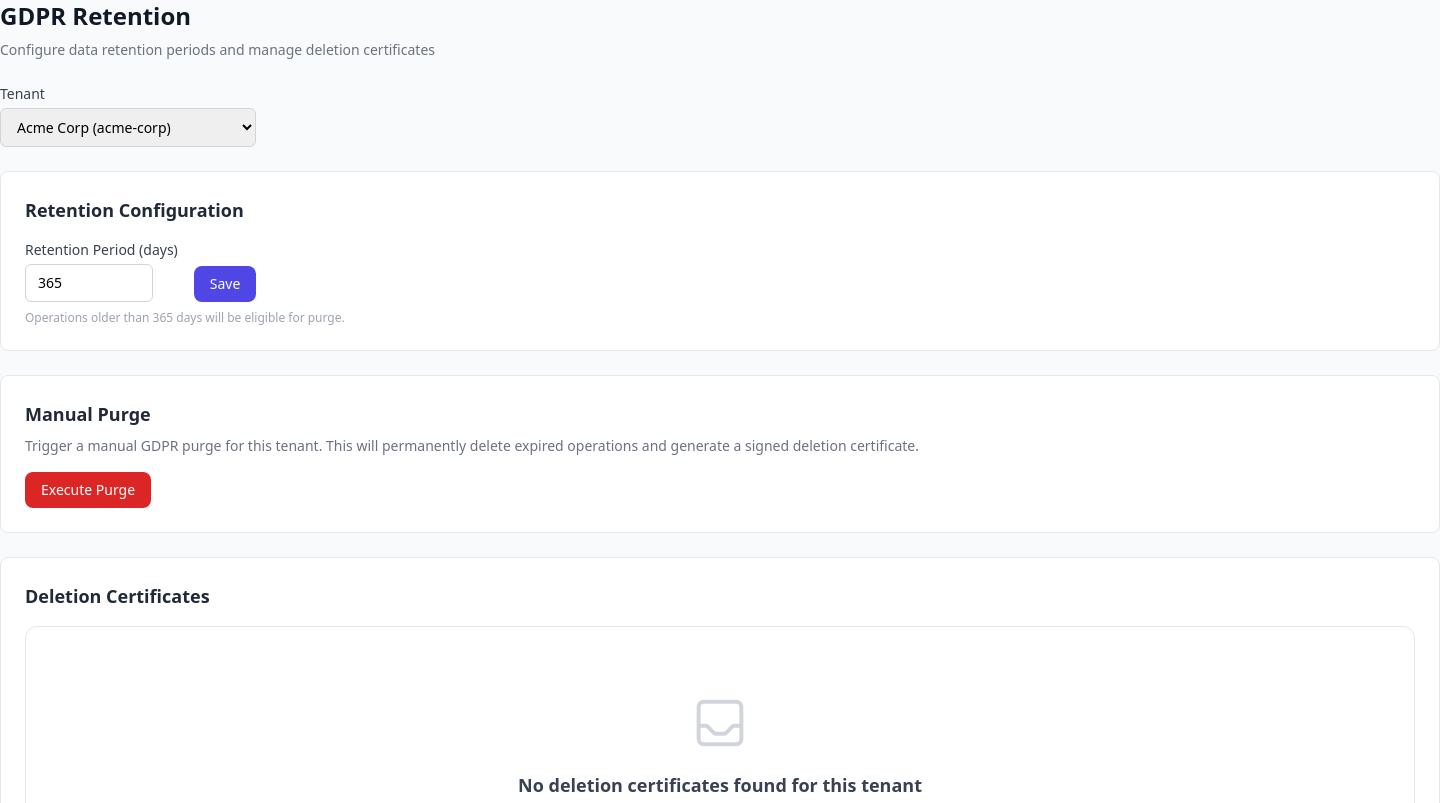
Test: RetentionPage › executes purge and shows result
The width and height of the screenshot is (1440, 803).
What coordinates should you click on to do the following:
click the button "Execute Purge"
I would click on:
 (88, 490)
Its box is x1=25 y1=472 x2=151 y2=508.
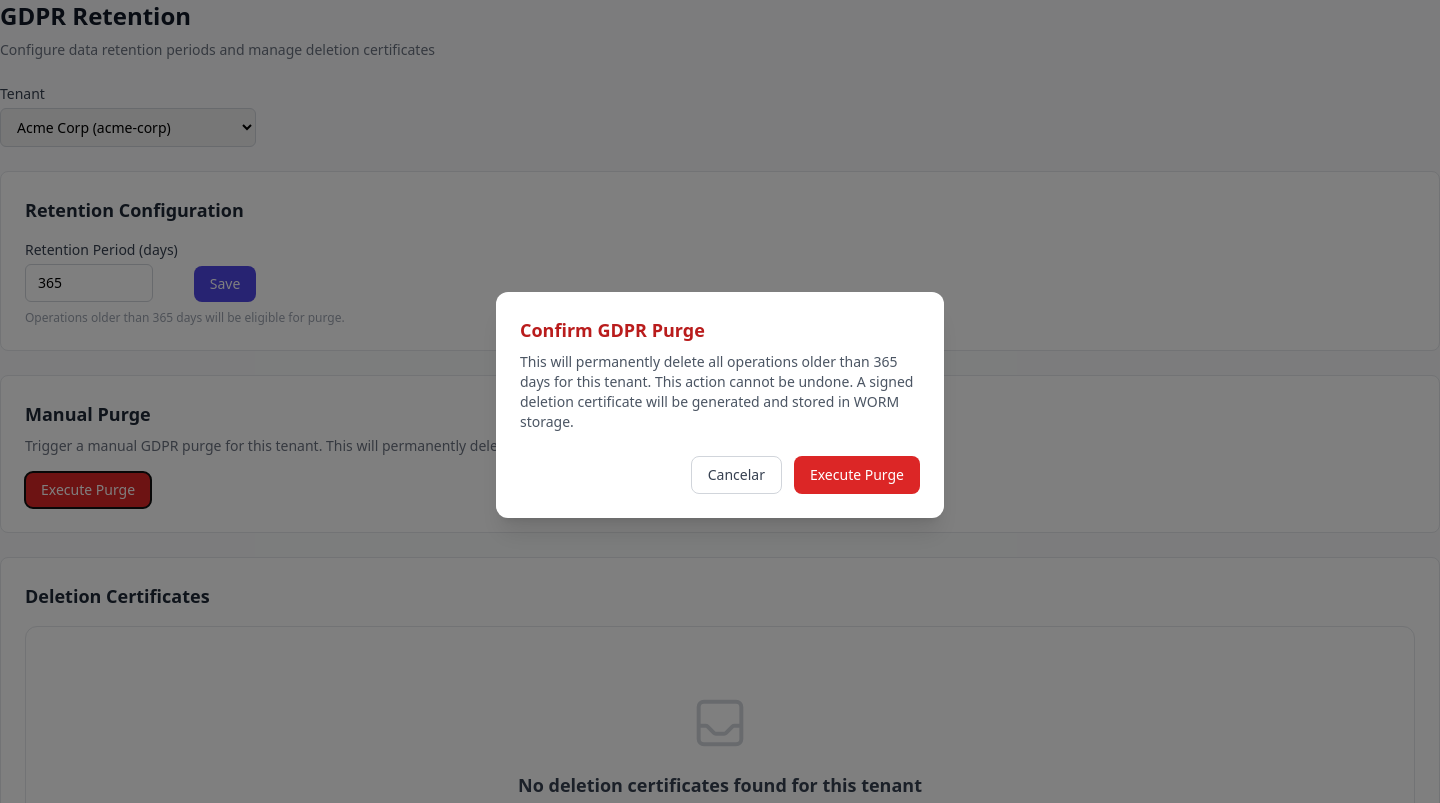
// Confirm in the modal
What coordinates should you click on to do the following:
click the button "Execute Purge"
I would click on:
 (857, 475)
Its box is x1=794 y1=456 x2=920 y2=494.
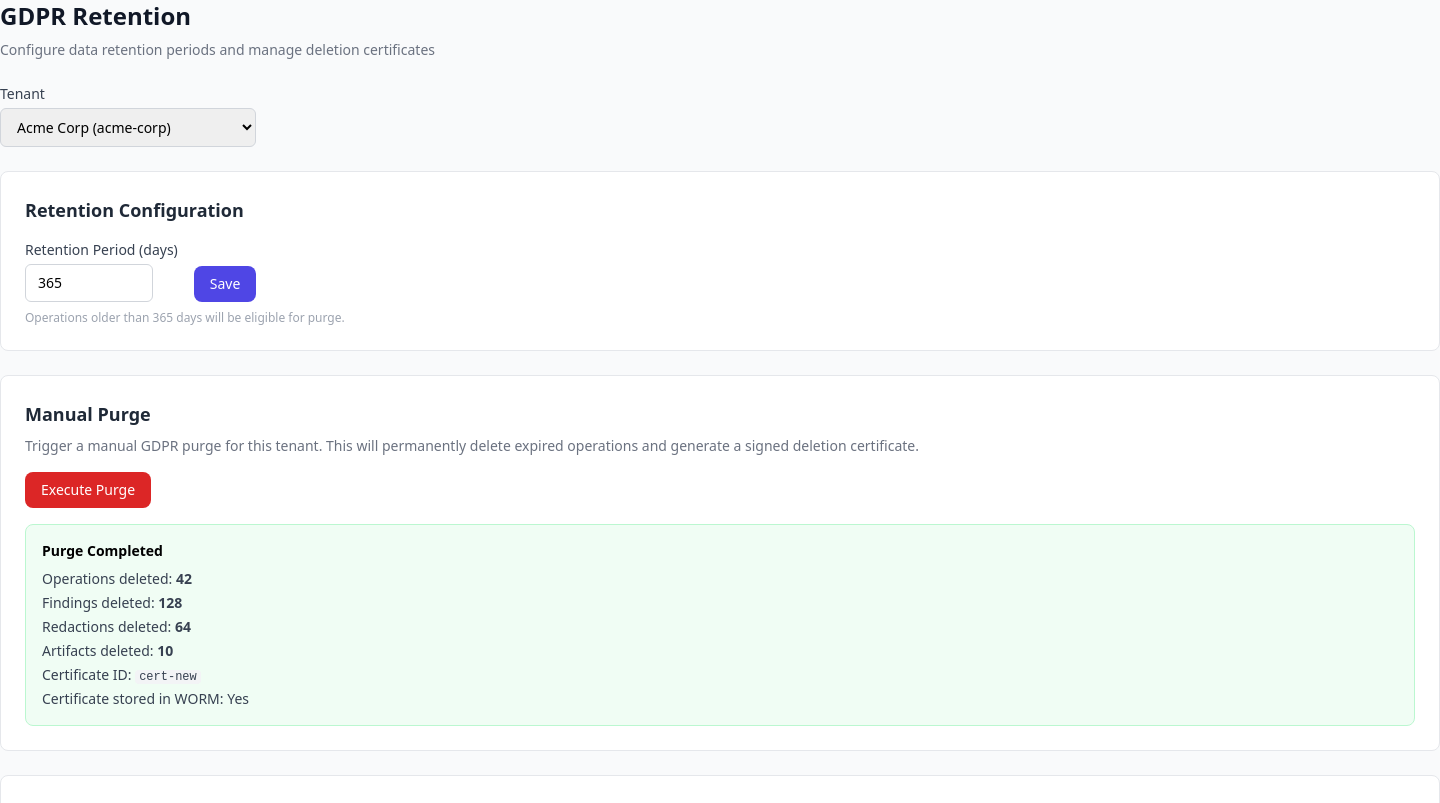
Check: the heading "Purge Completed" is shown, box x1=42 y1=541 x2=163 y2=560
Check: the text "42" is shown, box x1=176 y1=569 x2=192 y2=588
